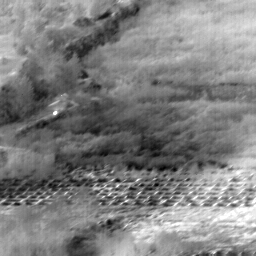aircraft: (54, 112, 56, 114)
